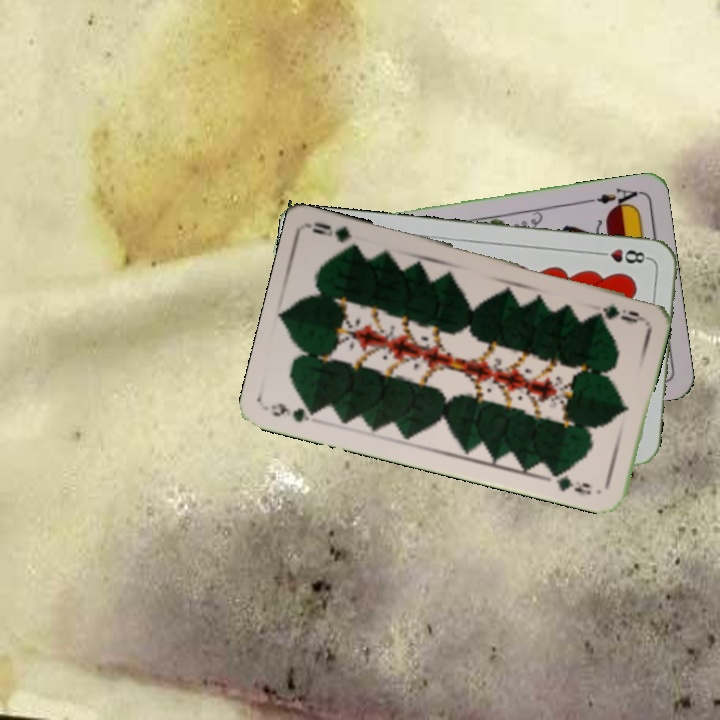EA: (583, 183, 642, 212)
G9: (267, 399, 323, 425), (598, 300, 646, 324)
H8: (593, 245, 652, 266)
